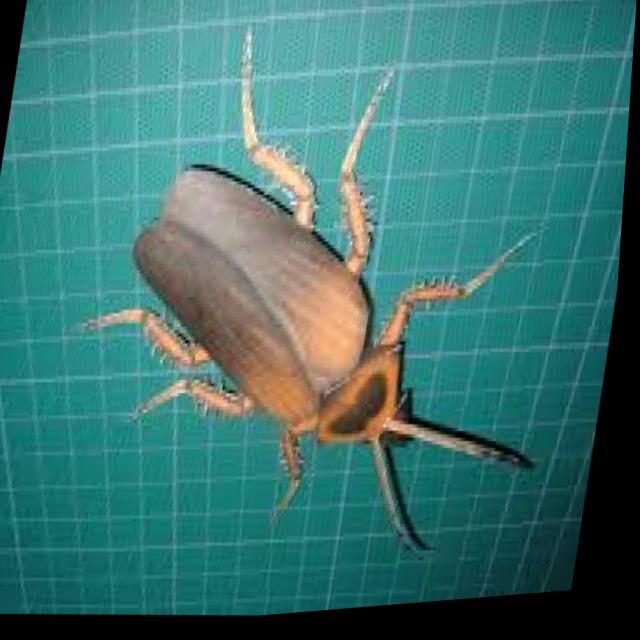Cockroach: (0, 42, 611, 608)
